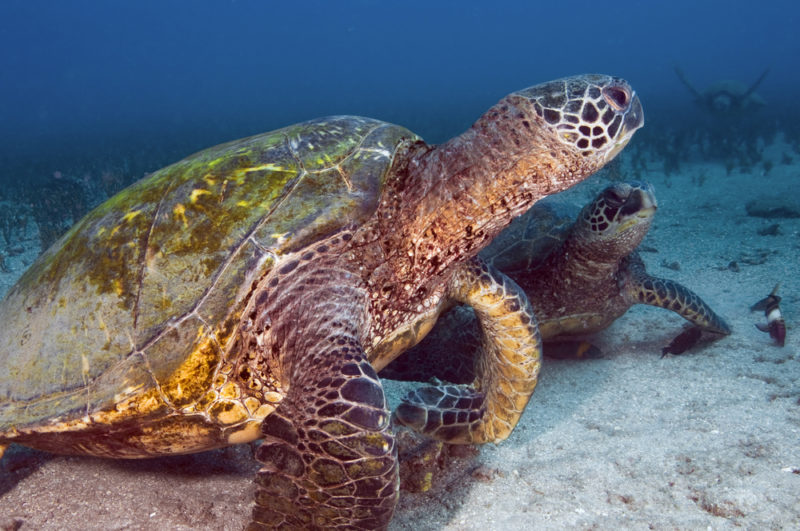trutle: (15, 63, 647, 511), (465, 180, 717, 360)
